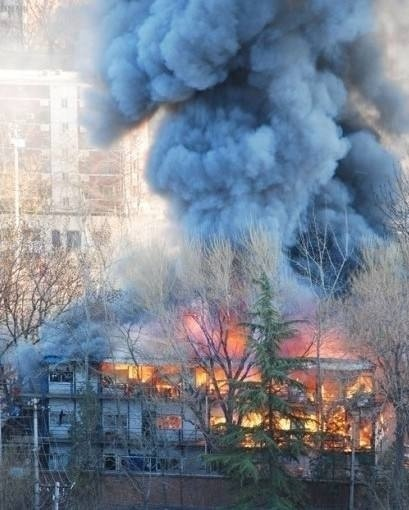fire: (98, 304, 395, 455)
